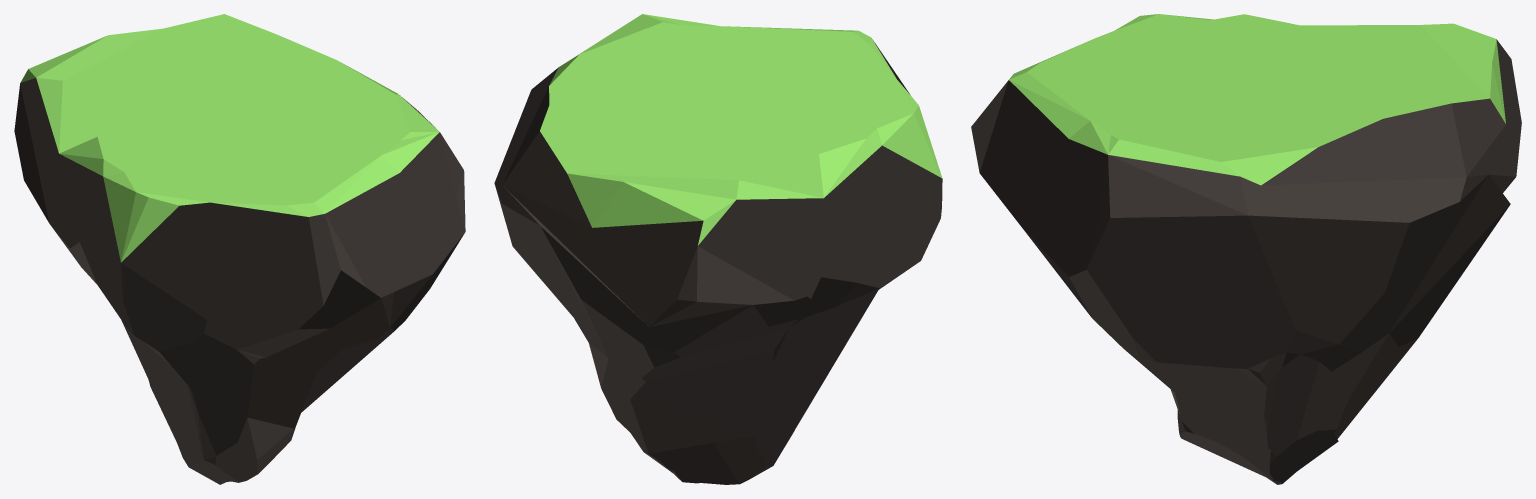
The model's file is floating_stone 2.fbx.
3 views of the same model, side by side, from view 1: azimuth 30°, elevation 25°; view 2: azimuth 150°, elevation 25°; view 3: azimuth 270°, elevation 25° (orthographic). The views are drawn at different scales.
Visible parts, largest first — view 1: fs 2; view 2: fs 2; view 3: fs 2.
Part boxes in pixels (x1,y1,x2,y2): fs 2: (14, 14, 465, 484); fs 2: (494, 14, 942, 484); fs 2: (971, 14, 1521, 484).
Size of the model in its own units: 8161 by 8609 by 10326.
